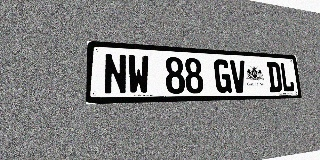8: (165, 56, 185, 94), (184, 57, 204, 94)
D: (267, 62, 282, 92)
G: (214, 59, 232, 93)
L: (280, 62, 295, 92)
N: (104, 53, 127, 95)
V: (230, 60, 247, 93)
W: (128, 54, 150, 94)
